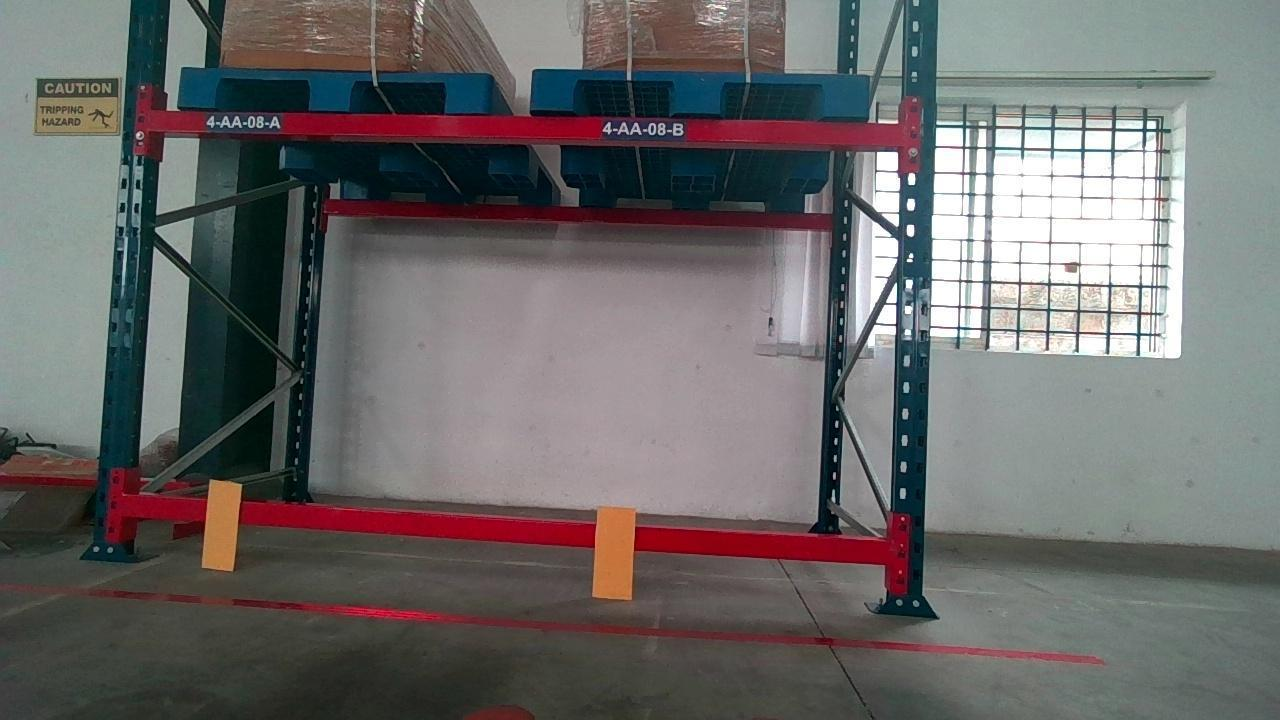h_rack: (127, 492, 897, 564), (144, 109, 906, 147)
orange_strip: (593, 506, 635, 597), (200, 480, 240, 567)
red_line: (87, 585, 1100, 665)
small_pallet: (538, 69, 868, 115), (180, 68, 487, 112)
